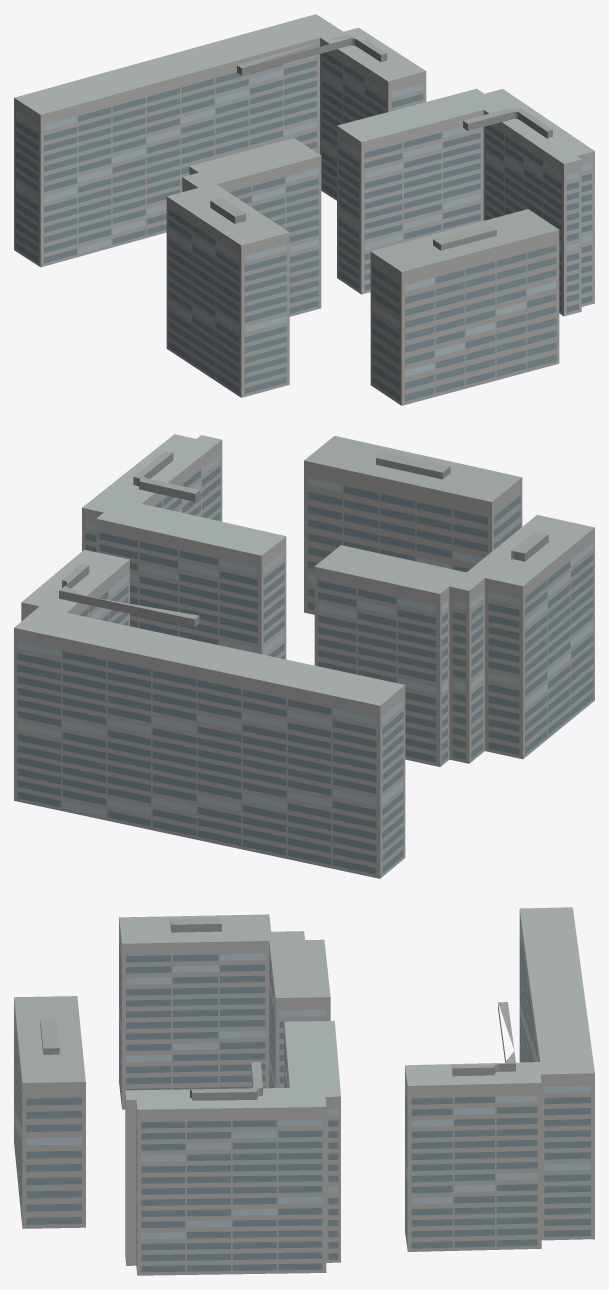
The model's file is apt-a13985107.glb.
3 renders of one model, top to bottom at view 1: azimuth 30°, elevation 25°; view 2: azimuth 150°, elevation 25°; view 3: azimuth 270°, elevation 25°, orthographic. The views are drawn at different scales.
Visible parts, largest first — view 1: apt-a13985107; view 2: apt-a13985107; view 3: apt-a13985107.
Part boxes in pixels (left/top/right/bottom): apt-a13985107: left=14, top=14, right=594, bottom=405; apt-a13985107: left=14, top=434, right=594, bottom=878; apt-a13985107: left=14, top=907, right=594, bottom=1275.
Bounding box in the file's own units: 99.95 × 40 × 121.
